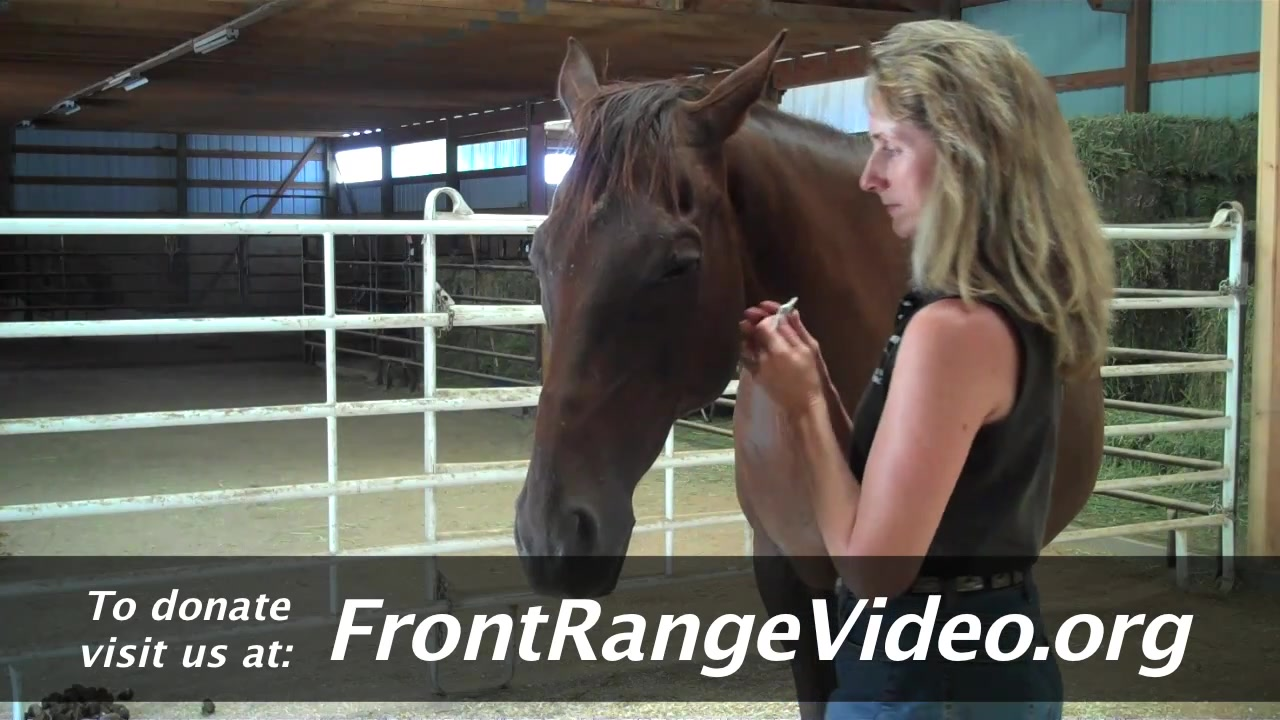horse: (513, 29, 1106, 720)
